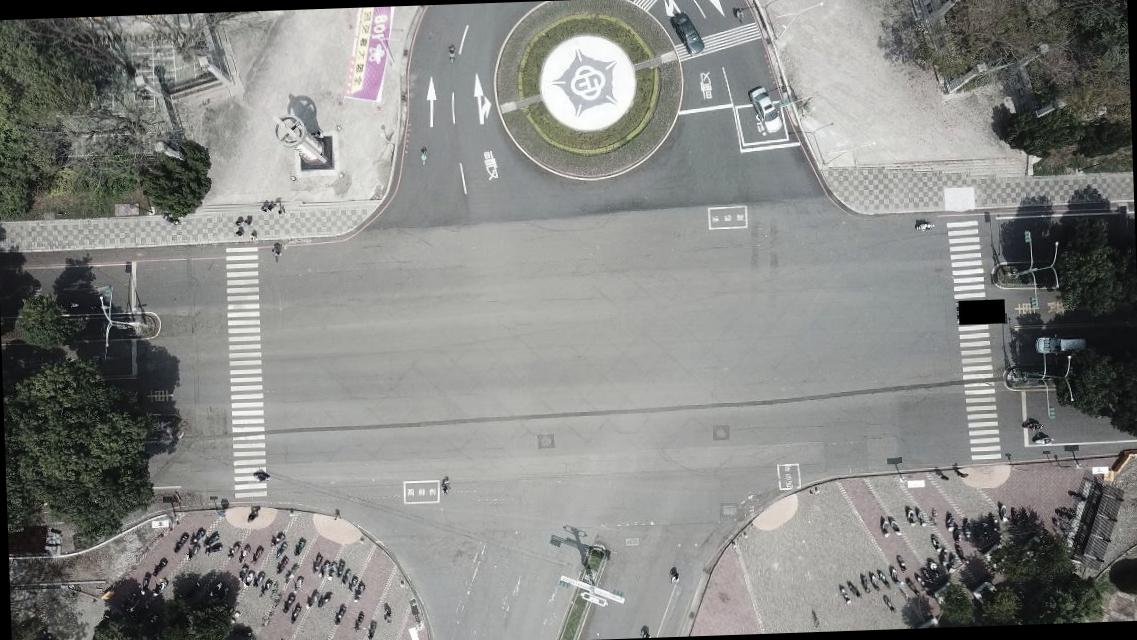vehicle: (747, 84, 783, 138), (667, 9, 705, 56), (1032, 334, 1086, 355)
